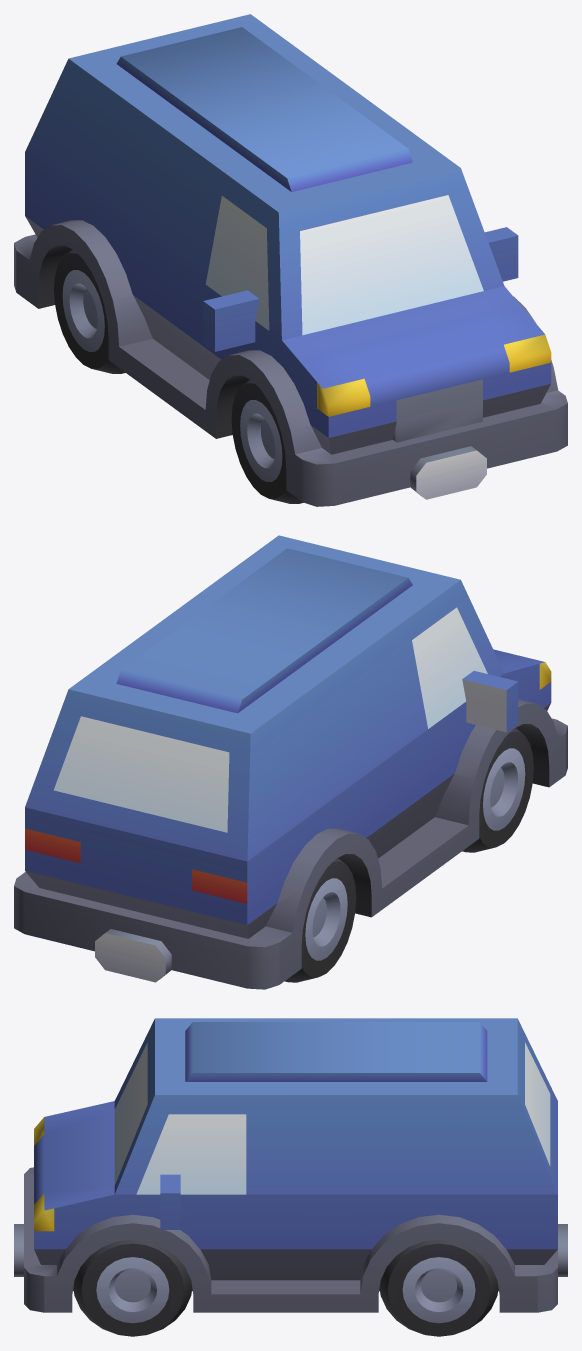
The model's file is k-car-van.glb.
3 renders of one model, top to bottom at view 1: azimuth 30°, elevation 25°; view 2: azimuth 150°, elevation 25°; view 3: azimuth 270°, elevation 25°, orthographic. The views are drawn at different scales.
Parts seen in each view (by area): view 1: body, wheel-front-right, wheel-back-right; view 2: body, wheel-back-right, wheel-front-right; view 3: body, wheel-front-left, wheel-back-left.
Part boxes in pixels (left/top/right/bottom): body: left=14, top=14, right=567, bottom=506; wheel-front-right: left=231, top=379, right=303, bottom=503; wheel-back-right: left=54, top=249, right=125, bottom=373; body: left=14, top=535, right=567, bottom=989; wheel-back-right: left=285, top=858, right=356, bottom=982; wheel-front-right: left=462, top=728, right=533, bottom=852; body: left=14, top=1018, right=567, bottom=1312; wheel-front-left: left=73, top=1239, right=192, bottom=1336; wheel-back-left: left=379, top=1239, right=498, bottom=1336.
Size of the model in its own units: 1.5 by 1.35 by 2.75.
Materials: 1 (1 with a texture image).
